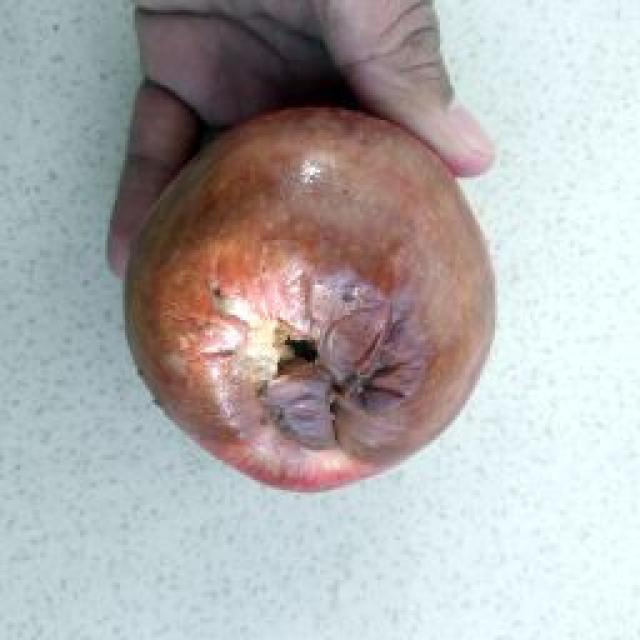Bad_Apple: (126, 108, 495, 489)
